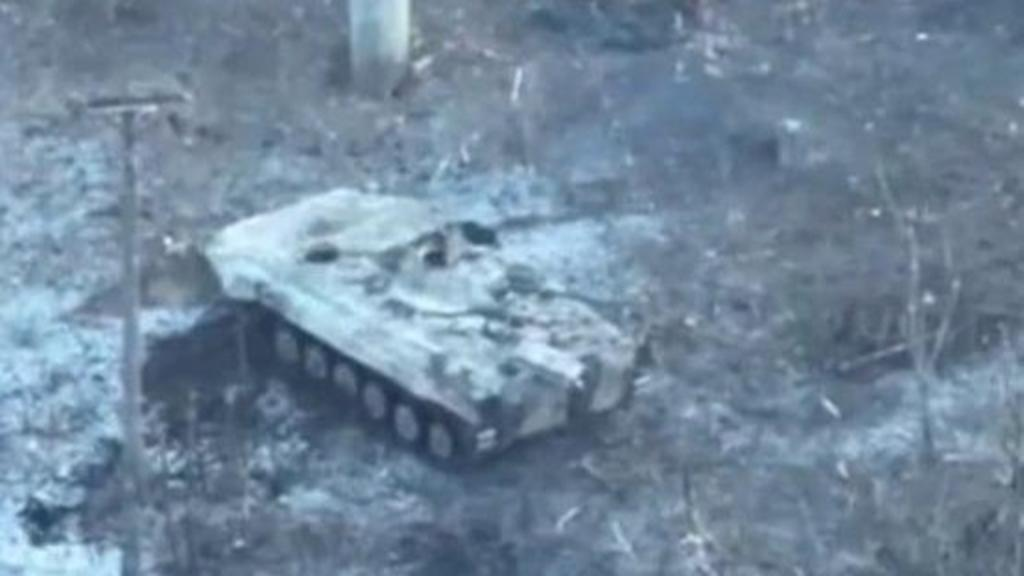APC-IFV: (194, 180, 640, 466)
